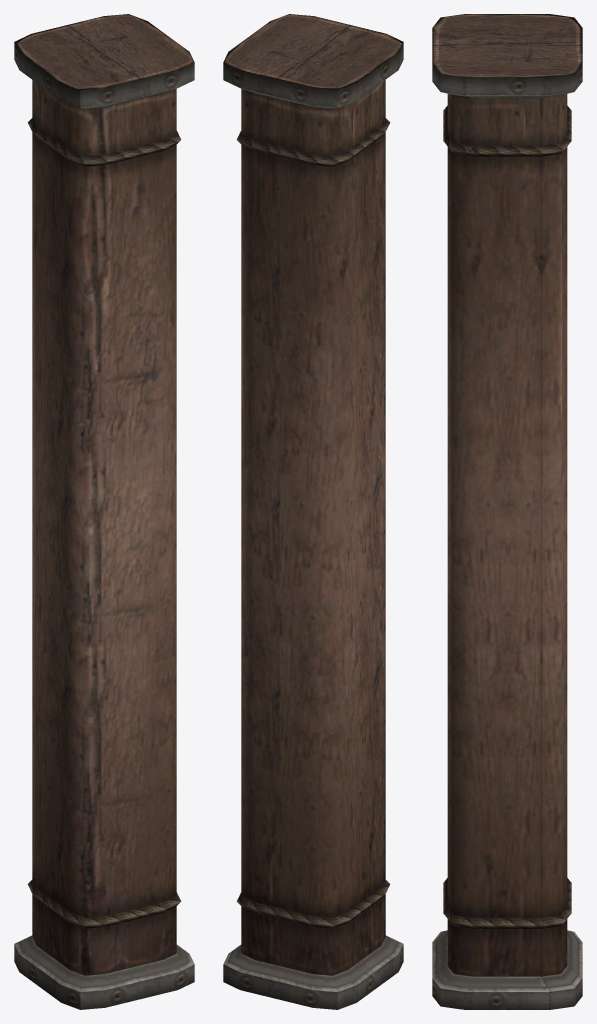
Rendered from Supportbeam01.DAE.
The picture shows the model from 3 angles, left to right: view 1: azimuth 30°, elevation 25°; view 2: azimuth 150°, elevation 25°; view 3: azimuth 270°, elevation 25°; orthographic projection.
Visible parts, largest first — view 1: Box001; view 2: Box001; view 3: Box001.
Boxes of the visible parts, left/top/right/bottom form: Box001: left=14, top=14, right=194, bottom=1009; Box001: left=223, top=14, right=403, bottom=1009; Box001: left=432, top=14, right=582, bottom=1009.
Size of the model in its own units: 0.0339 by 0.2326 by 0.0339.
